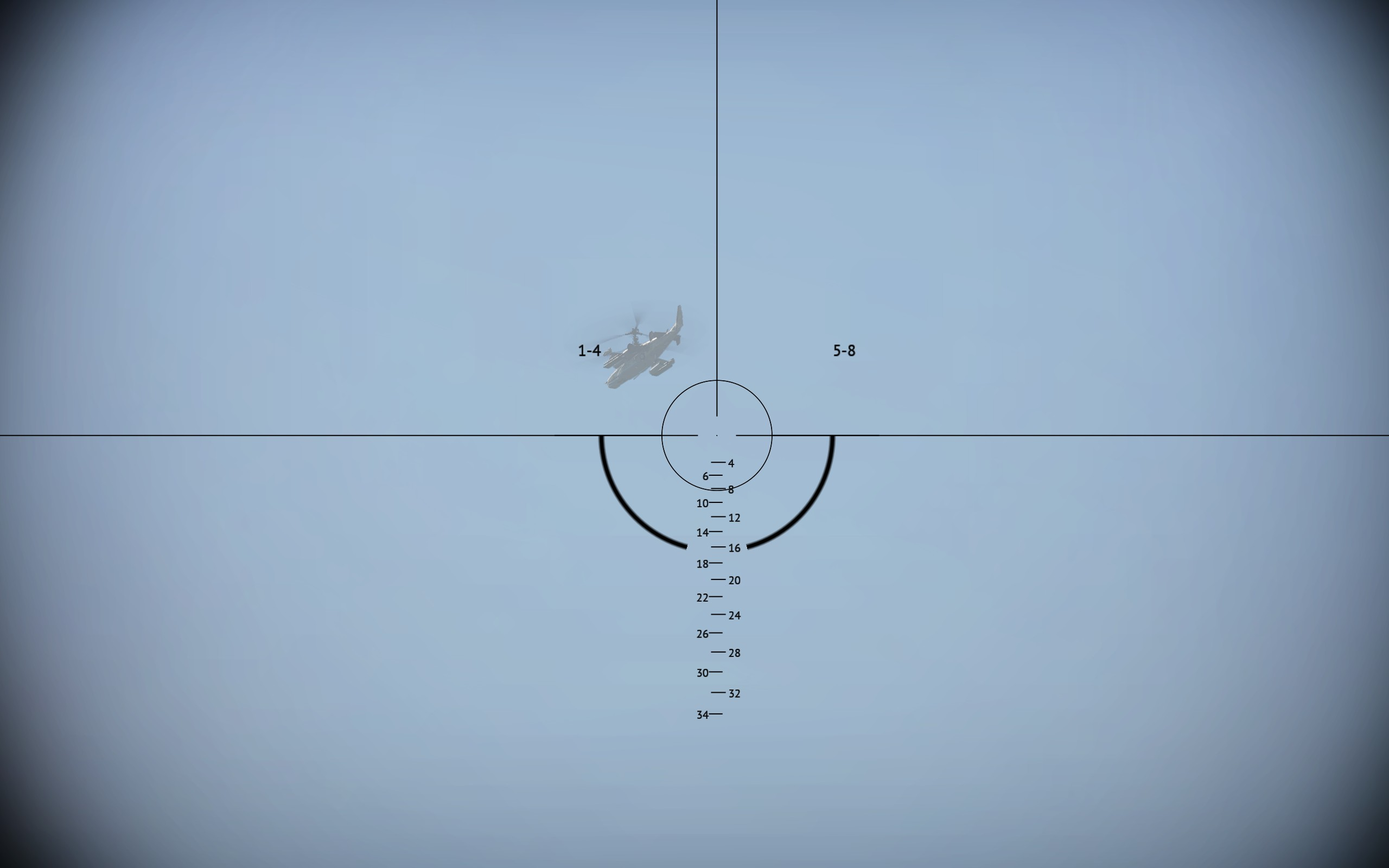ka50: (601, 305, 685, 390)
